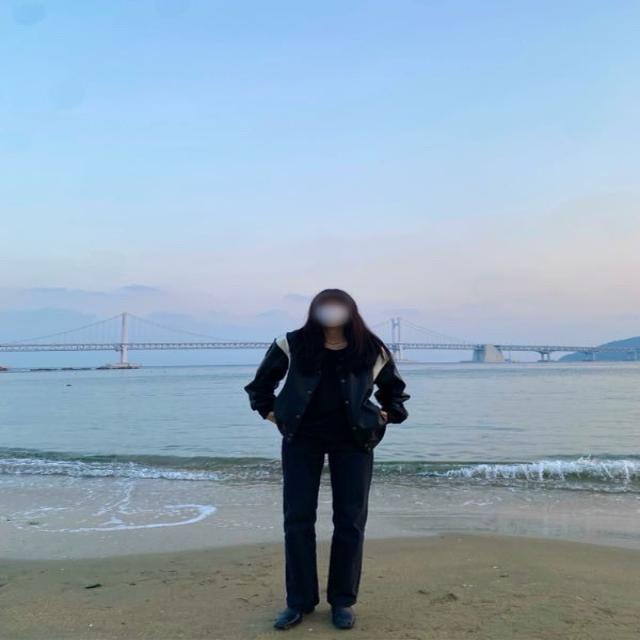denimpants: (277, 430, 376, 604)
jacket: (243, 325, 409, 439)
